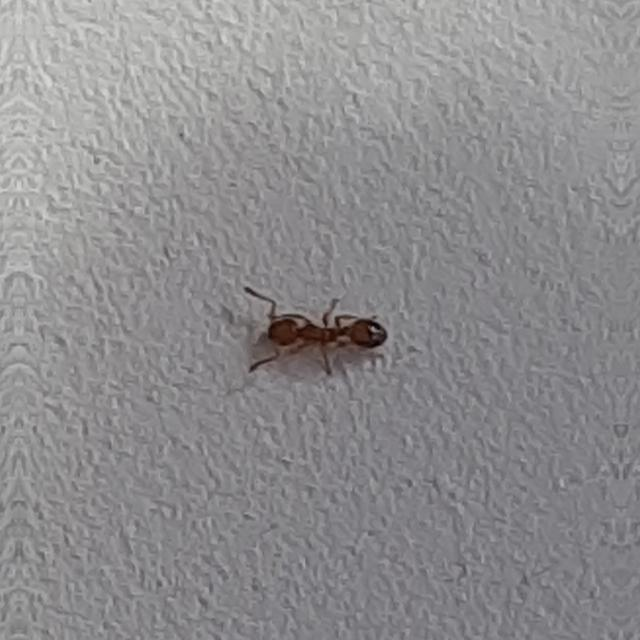Myrmica: (242, 277, 408, 381)
